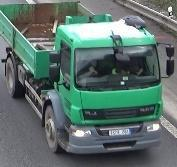Truck: (0, 0, 175, 155)
